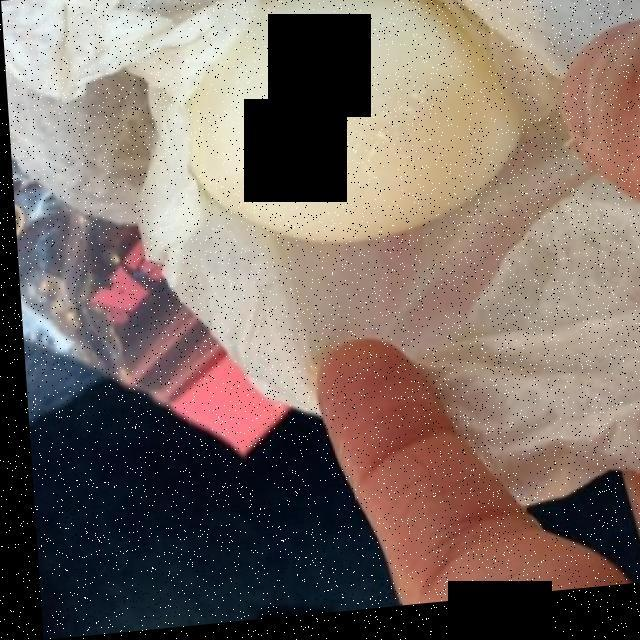egg: (197, 0, 513, 245)
